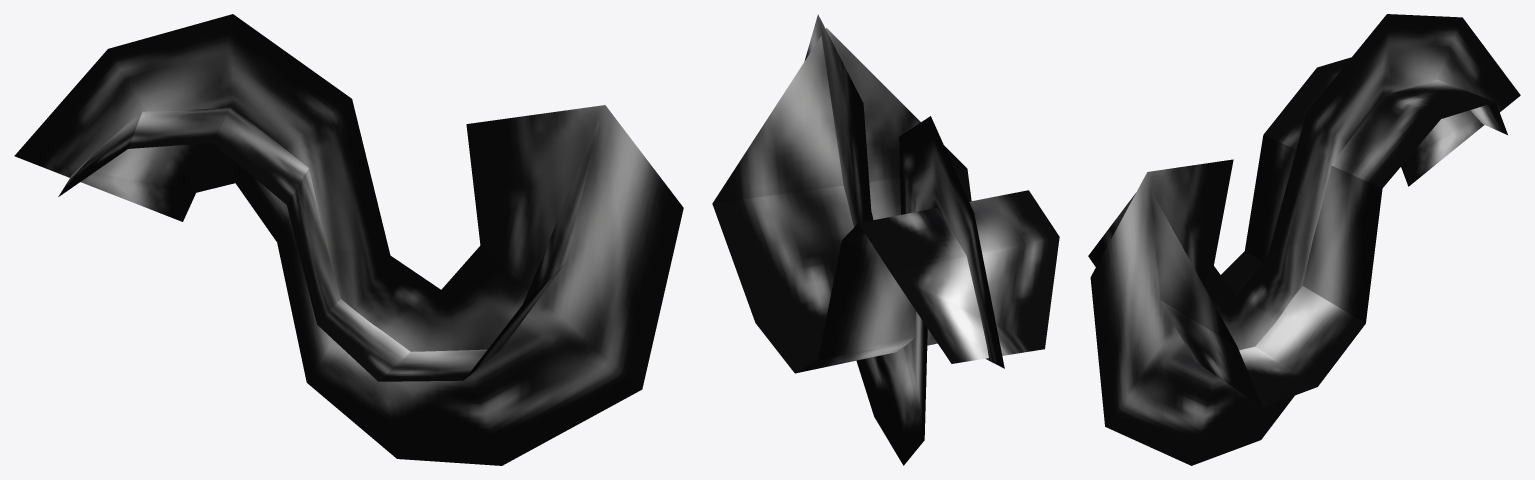
3 views of the same model, side by side, from view 1: azimuth 30°, elevation 25°; view 2: azimuth 150°, elevation 25°; view 3: azimuth 270°, elevation 25° (orthographic). The views are drawn at different scales.
Visible parts, largest first — view 1: B_0054_1b_0; view 2: B_0054_1b_0; view 3: B_0054_1b_0.
Boxes of the visible parts, box(x1,y1,x2,y2) form: B_0054_1b_0: box(14, 14, 683, 465); B_0054_1b_0: box(712, 14, 1059, 465); B_0054_1b_0: box(1088, 14, 1520, 465).
Size of the model in its own units: 1.99 by 1.8 by 1.84.
1 material, 1 textured.
